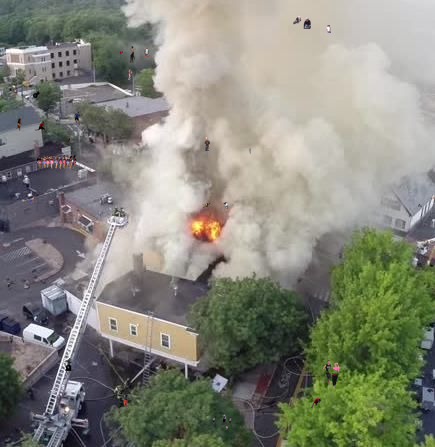Human: (37, 155, 76, 169), (321, 360, 340, 388), (16, 118, 48, 132), (9, 84, 40, 98), (212, 413, 232, 425), (293, 16, 311, 29), (6, 335, 26, 344), (219, 202, 230, 215), (129, 46, 136, 63), (74, 112, 82, 125), (311, 398, 321, 408), (117, 399, 128, 408), (65, 358, 72, 371), (204, 137, 210, 151), (25, 197, 35, 204), (144, 46, 150, 57), (202, 202, 210, 208), (49, 338, 54, 347), (128, 69, 132, 80), (326, 25, 331, 33), (431, 196, 435, 199), (249, 148, 251, 154), (120, 51, 123, 55), (418, 204, 422, 207), (225, 426, 228, 430), (67, 138, 70, 142), (340, 423, 342, 428), (34, 412, 36, 417), (149, 334, 152, 337)
